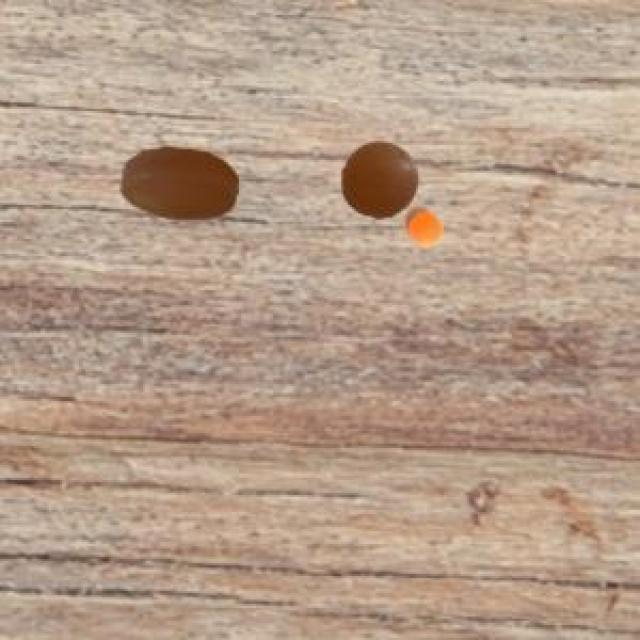Bactidol: (334, 130, 457, 260), (117, 131, 252, 232)
